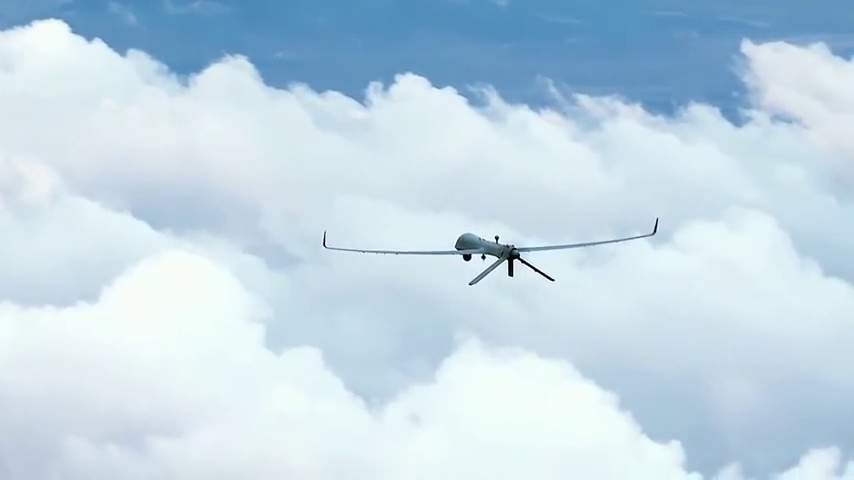military drone: (322, 217, 658, 285)
